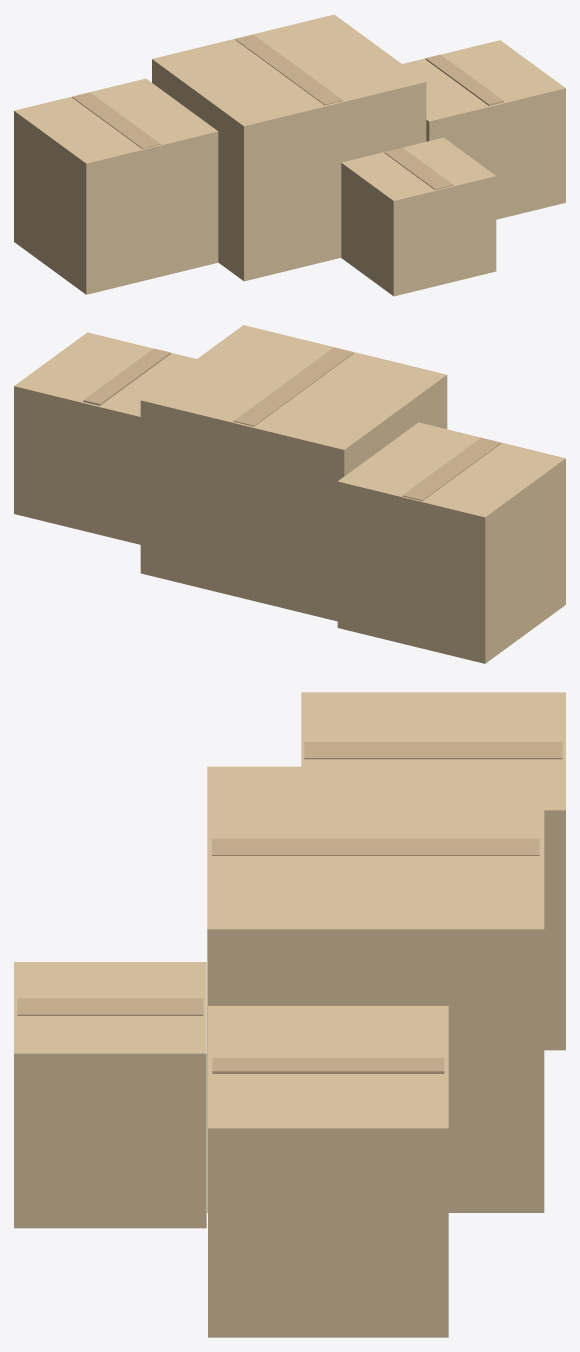
Rendered from 02_cardboard_boxes_11.glb.
3 renders of one model, top to bottom at view 1: azimuth 30°, elevation 25°; view 2: azimuth 150°, elevation 25°; view 3: azimuth 270°, elevation 25°, orthographic. The views are drawn at different scales.
Parts seen in each view (by area): view 1: part_1, part_3, part_7, part_5, part_2, part_4, part_6, part_8; view 2: part_1, part_3, part_5, part_2, part_4, part_6; view 3: part_1, part_5, part_7, part_3, part_2, part_4, part_6, part_8.
Part boxes in pixels (x1=…): part_1: x1=152, y1=14, x2=426, y2=281; part_3: x1=14, y1=78, x2=218, y2=294; part_7: x1=341, y1=137, x2=496, y2=296; part_5: x1=402, y1=40, x2=565, y2=219; part_2: x1=235, y1=34, x2=342, y2=105; part_4: x1=72, y1=92, x2=160, y2=148; part_6: x1=425, y1=54, x2=503, y2=105; part_8: x1=384, y1=147, x2=453, y2=189; part_1: x1=140, y1=325, x2=447, y2=621; part_3: x1=337, y1=422, x2=565, y2=663; part_5: x1=14, y1=332, x2=196, y2=544; part_2: x1=233, y1=347, x2=353, y2=426; part_4: x1=402, y1=438, x2=501, y2=500; part_6: x1=83, y1=348, x2=170, y2=405; part_1: x1=207, y1=766, x2=544, y2=1212; part_5: x1=208, y1=1006, x2=448, y2=1337; part_7: x1=14, y1=962, x2=206, y2=1228; part_3: x1=301, y1=692, x2=565, y2=1050; part_2: x1=212, y1=838, x2=539, y2=855; part_4: x1=304, y1=742, x2=562, y2=759; part_6: x1=212, y1=1058, x2=444, y2=1073; part_8: x1=17, y1=998, x2=203, y2=1015.
Bounding box in the file's own units: 1.99 × 0.6529 × 1.15.
